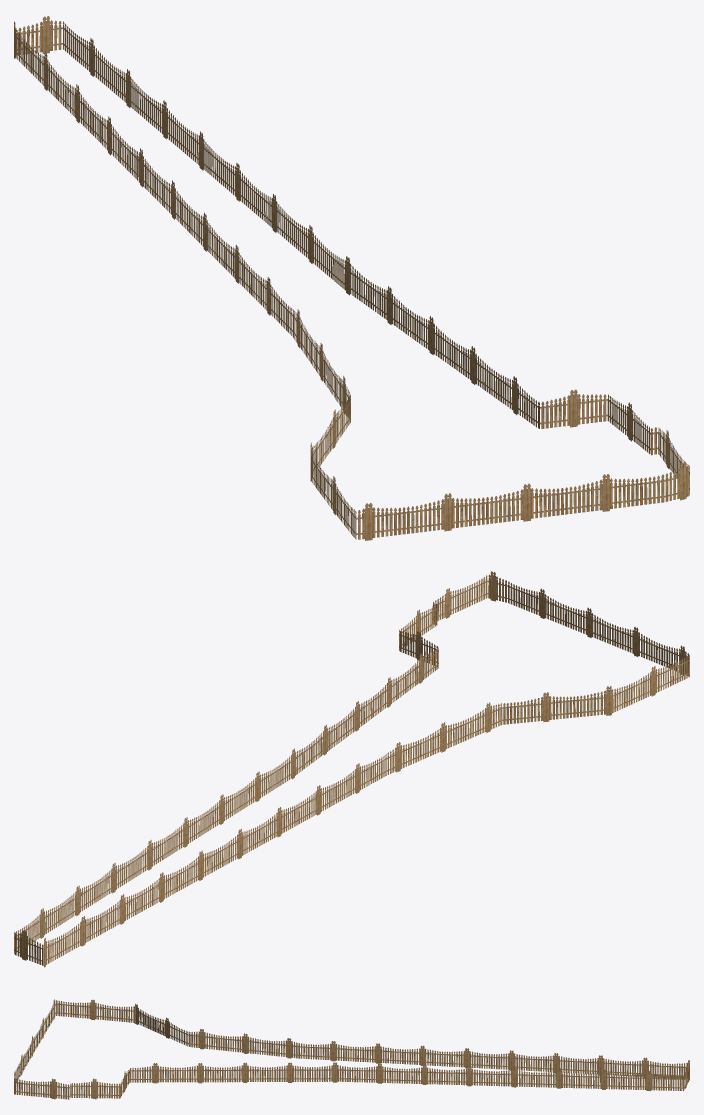
Rendered from fence11.dae.
3 renders of one model, top to bottom at view 1: azimuth 30°, elevation 25°; view 2: azimuth 150°, elevation 25°; view 3: azimuth 270°, elevation 25°, orthographic. The views are drawn at different scales.
Visible parts, largest first — view 1: MainNode; view 2: MainNode; view 3: MainNode.
Part boxes in pixels (bbox=[...]): MainNode: bbox=[14, 16, 689, 540]; MainNode: bbox=[14, 571, 689, 967]; MainNode: bbox=[14, 999, 689, 1099].
Size of the model in its own units: 13.23 by 45.16 by 1.5.
1 material, 1 textured.
